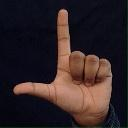hand: (12, 8, 112, 126)
